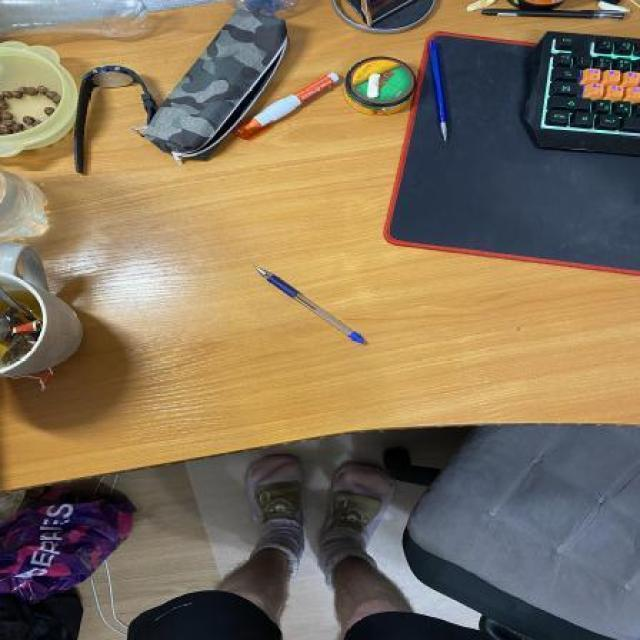Pen - Non Recyclable: (256, 264, 369, 347)
